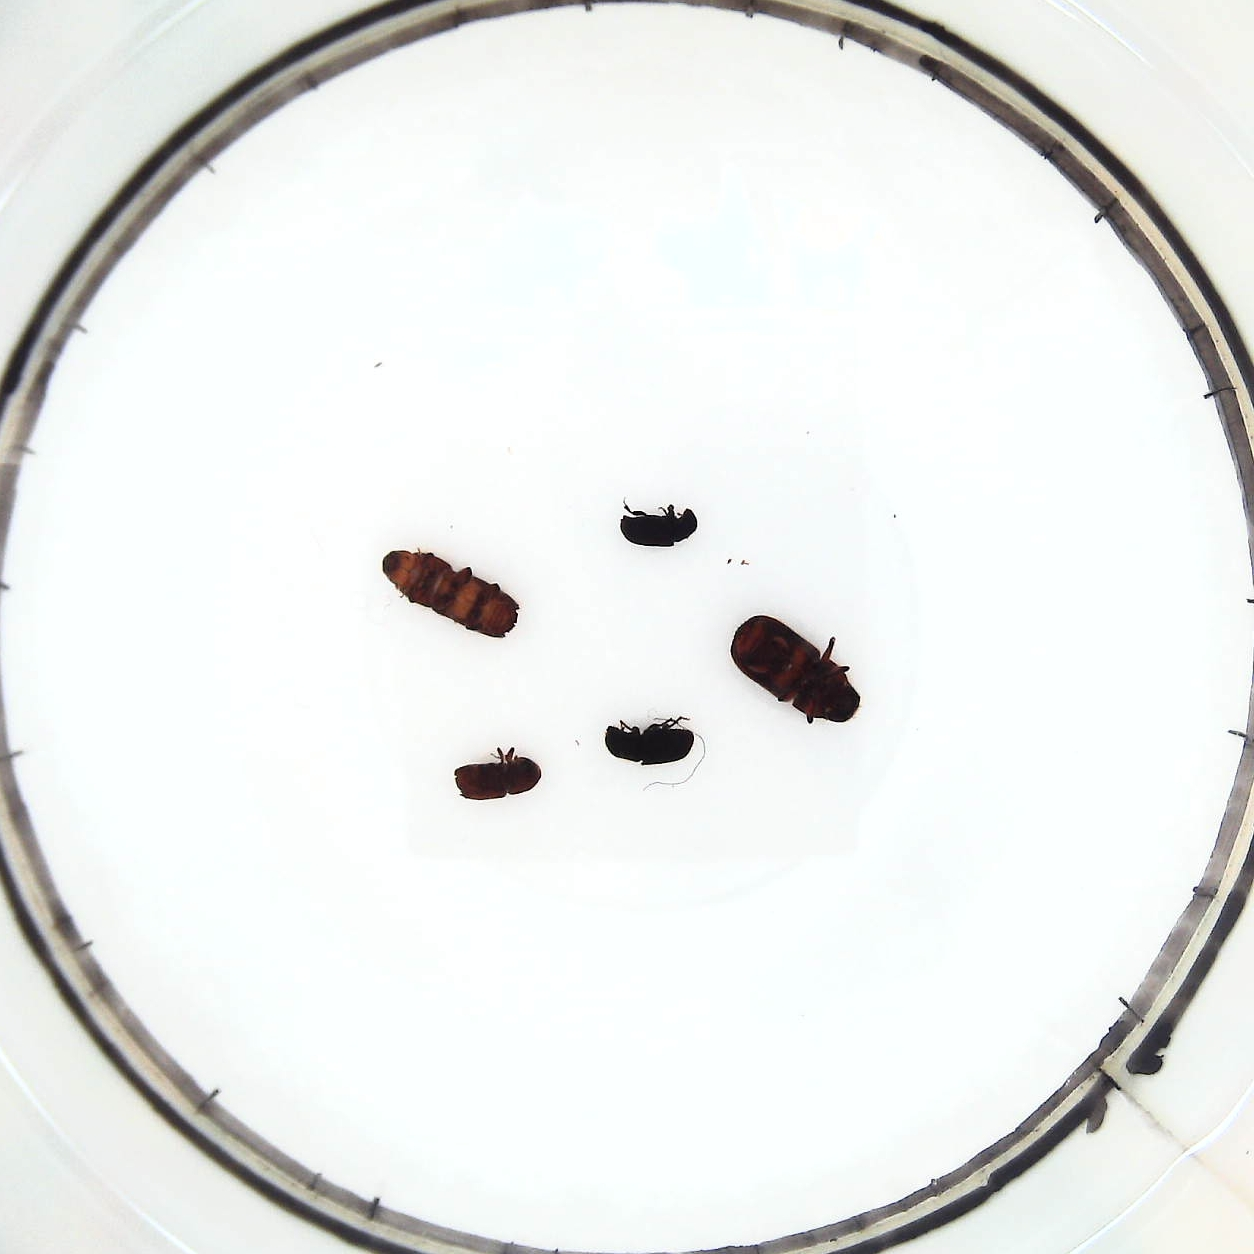Boerner: (371, 544, 522, 647)
Leconte: (727, 612, 866, 727)
armandi: (598, 714, 709, 766)
coleoptera: (613, 500, 700, 556)
linnaeus: (449, 741, 549, 807)
